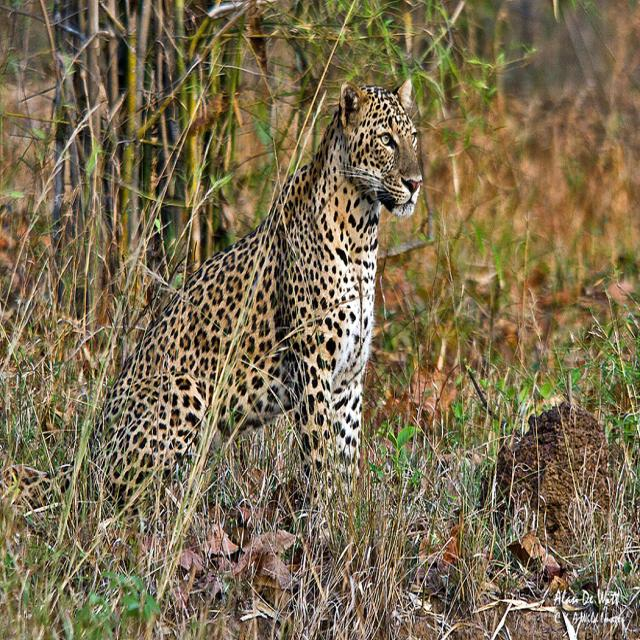Leopard: (80, 75, 421, 593)
